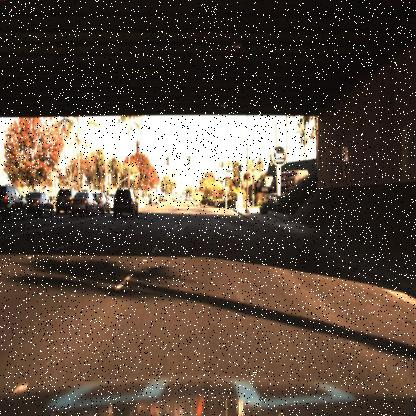car: (110, 182, 141, 218), (0, 185, 29, 222), (24, 188, 56, 218), (53, 185, 78, 216), (69, 191, 98, 216), (55, 187, 79, 214), (93, 190, 111, 215), (148, 191, 160, 206)
trafficLight-Green: (235, 163, 244, 181), (237, 161, 244, 179), (223, 172, 229, 188), (164, 154, 170, 169), (187, 154, 192, 166)
